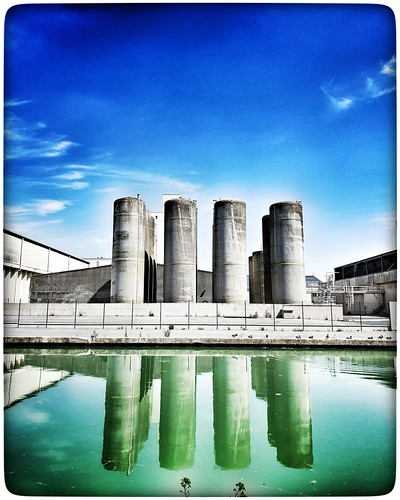building: (18, 189, 336, 335), (338, 248, 400, 332)
river: (10, 346, 393, 496)
sky: (1, 3, 392, 225)
